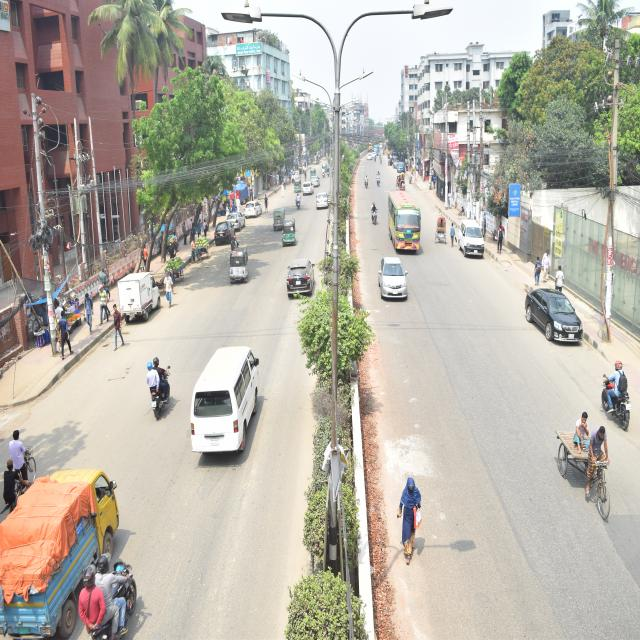car: (526, 272, 587, 359), (373, 242, 402, 307), (284, 248, 312, 312), (456, 212, 488, 262), (209, 216, 234, 250), (314, 181, 332, 220), (245, 196, 262, 220), (223, 204, 240, 223), (300, 182, 312, 198), (311, 170, 320, 187)
microbus: (191, 336, 265, 486)
motorbike: (75, 566, 134, 624), (597, 357, 634, 428), (142, 357, 177, 417), (370, 196, 380, 236), (363, 170, 373, 193), (374, 171, 386, 190), (364, 191, 379, 197)
pickup-van: (116, 270, 167, 323)
